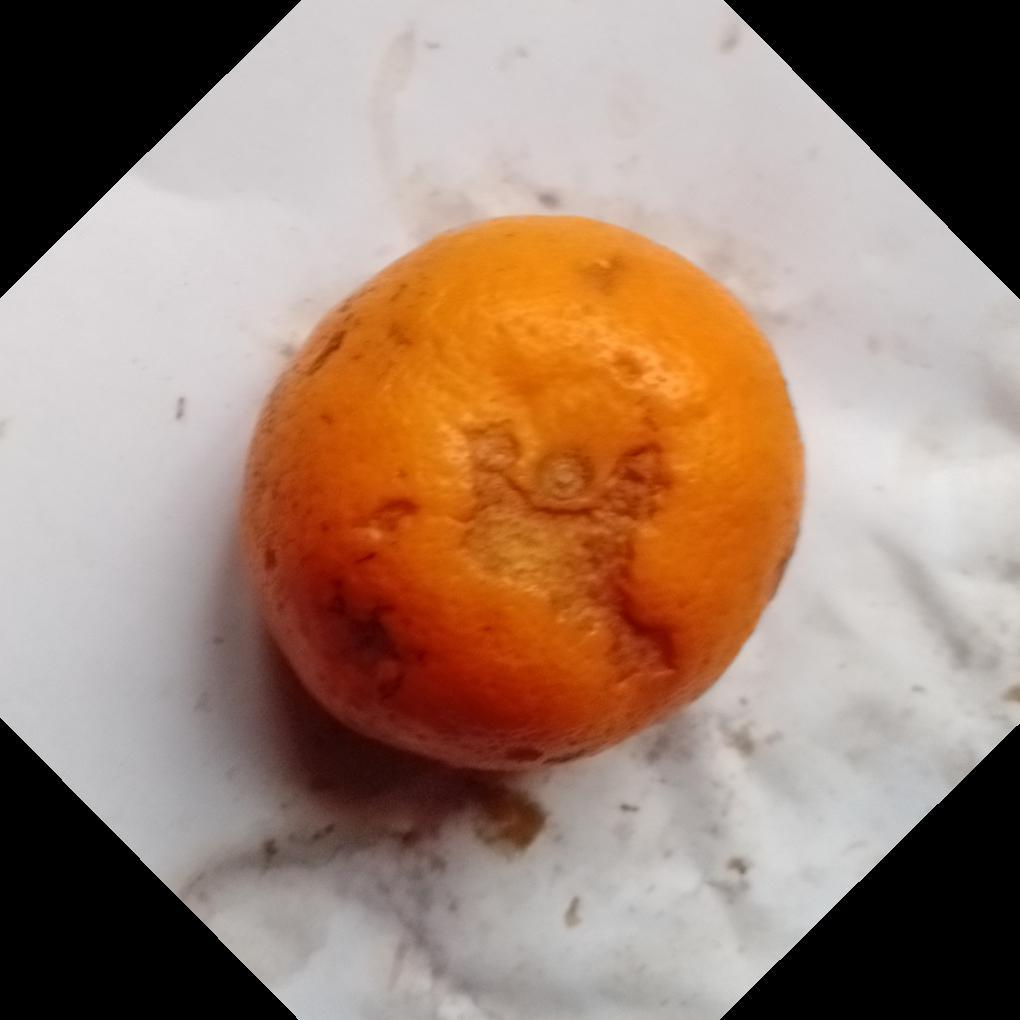FreshOrange: (237, 215, 807, 780)
